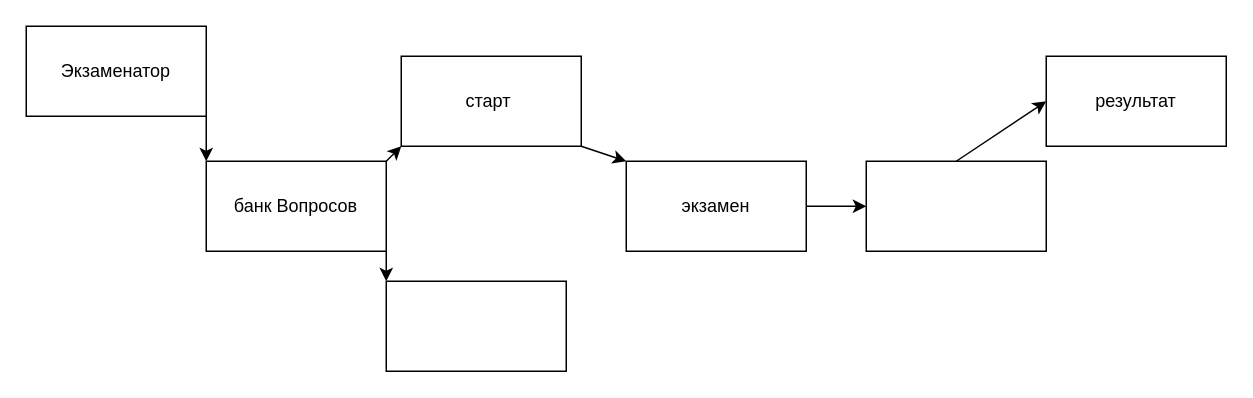
The diagram is 1253 pixels wide and 398 high, and some of its shapes have lost their labels. Each missing label, with the box of its shape:
загрузка: (865, 160, 1046, 251)
отмена: (385, 280, 566, 371)
